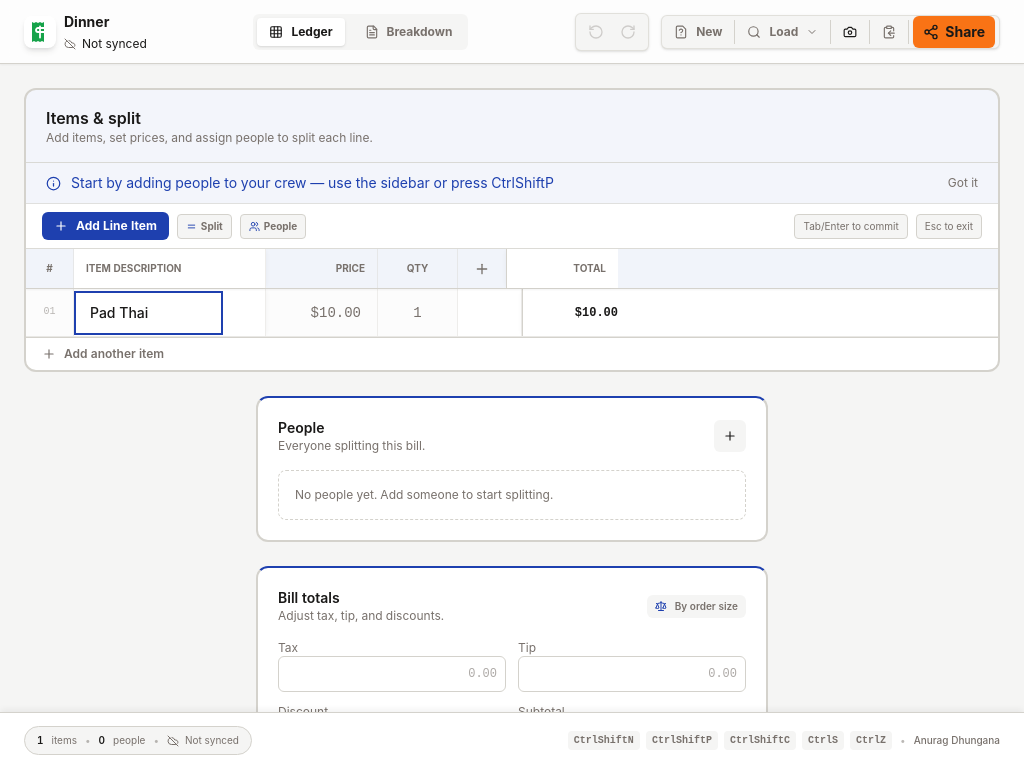
Scenario: ProBillSplitter bill title input › does not start editing the selected ledger cell while typing in the bill title
The width and height of the screenshot is (1024, 768).
In the field named "bill title": (97, 22) [64,12,130,32], type "X"
(page scrolled)
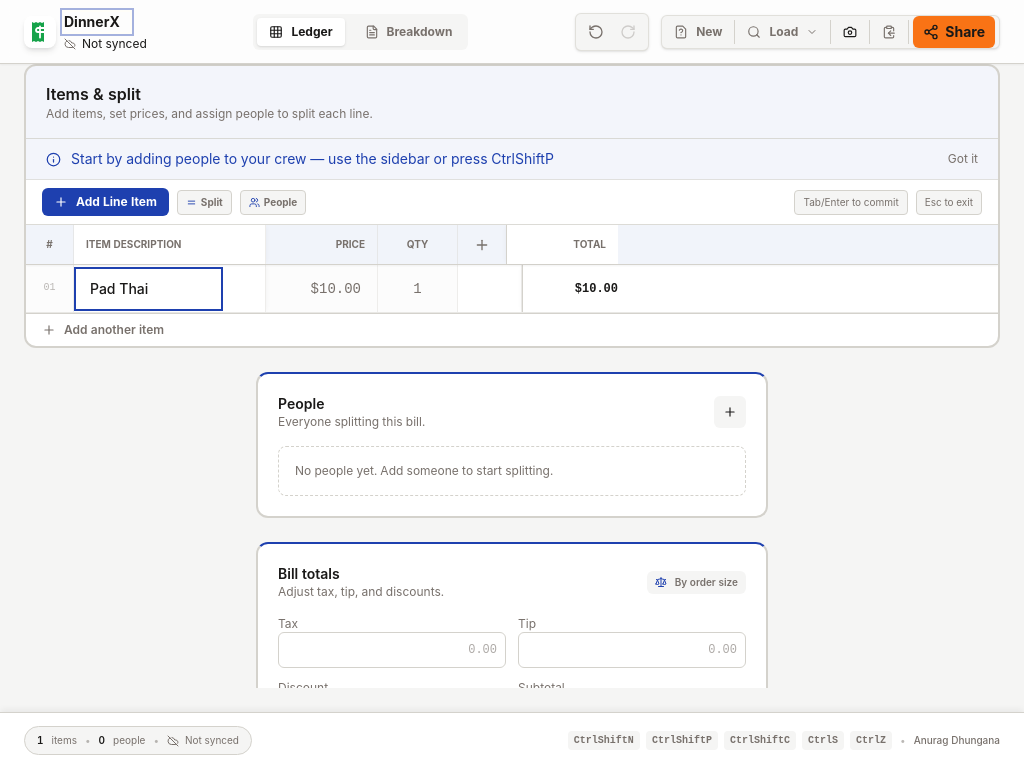
Expected: the text with test id "probe-title" reads "DinnerX", [0,746,61,766]
Expected: the field named "bill title" holds "DinnerX", [64,12,130,32]
